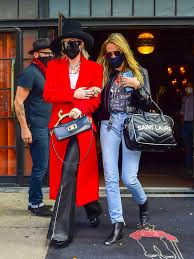mask: (107, 55, 125, 69), (63, 46, 80, 59), (40, 56, 54, 63)
